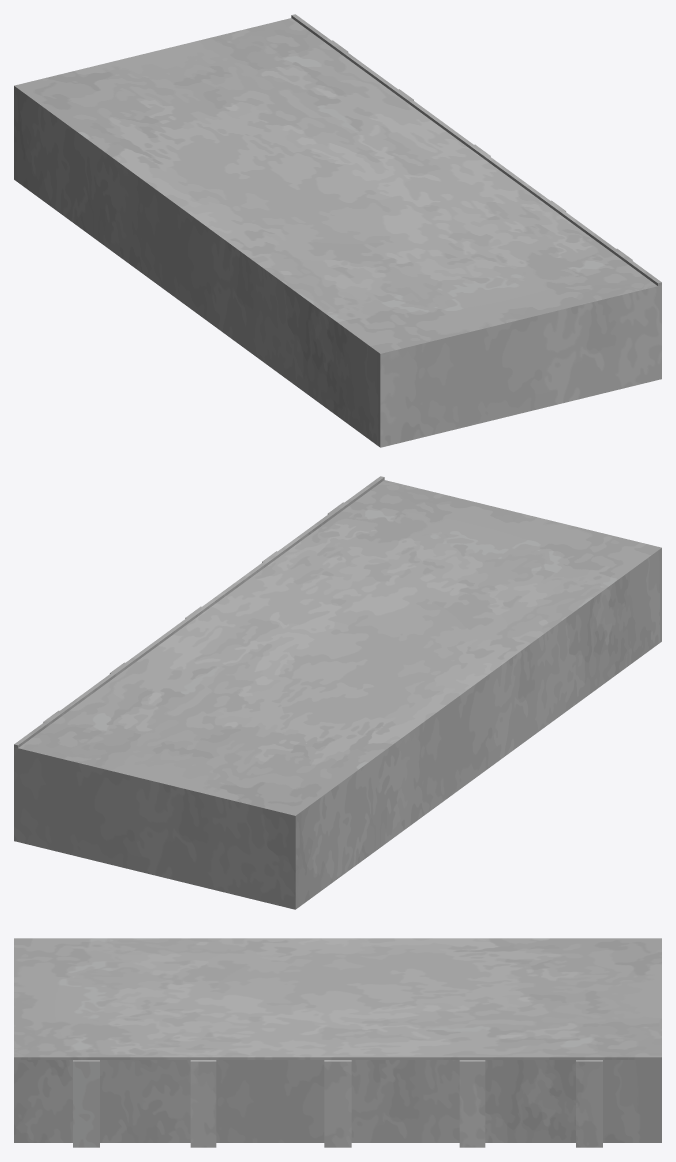
File: Luka.fbx
3 views of the same model, one above another, from view 1: azimuth 30°, elevation 25°; view 2: azimuth 150°, elevation 25°; view 3: azimuth 270°, elevation 25° (orthographic). The views are drawn at different scales.
Parts seen in each view (by area): view 1: Cube; view 2: Cube; view 3: Cube.
Part boxes in pixels (x1=…): Cube: x1=14, y1=14, x2=661, y2=447; Cube: x1=14, y1=476, x2=661, y2=909; Cube: x1=14, y1=938, x2=661, y2=1147.
Bounding box in the file's own units: 4446 × 1406 × 9653.
1 material, 1 textured.
